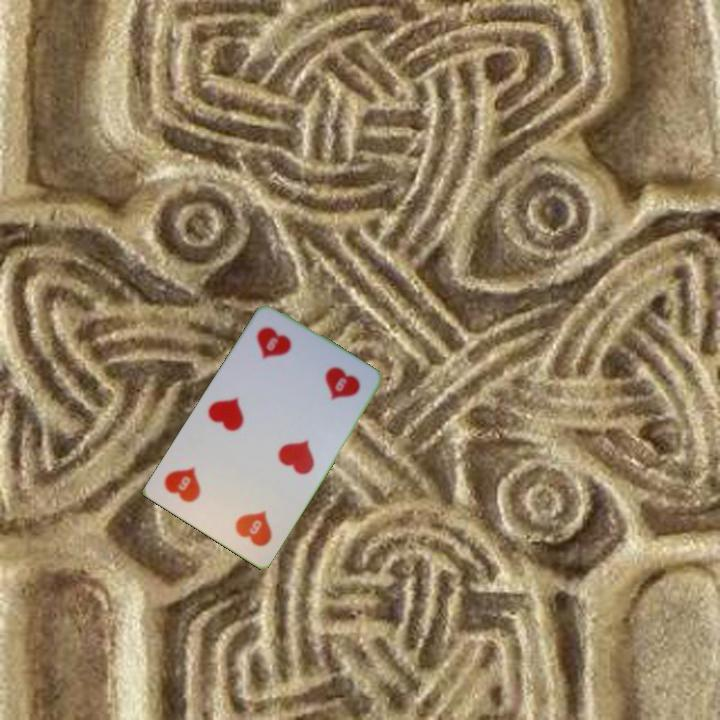h_6.png: (237, 312, 322, 395), (206, 475, 292, 557)
